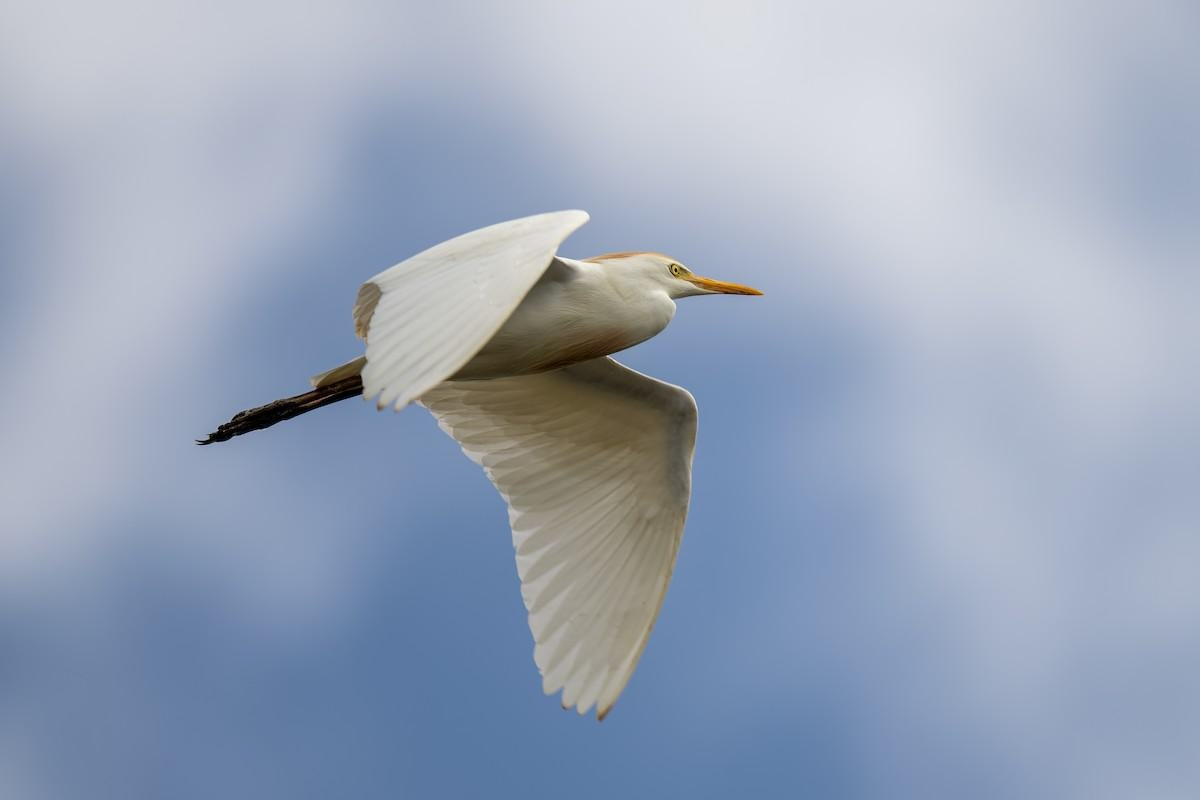egret: (188, 214, 780, 728)
